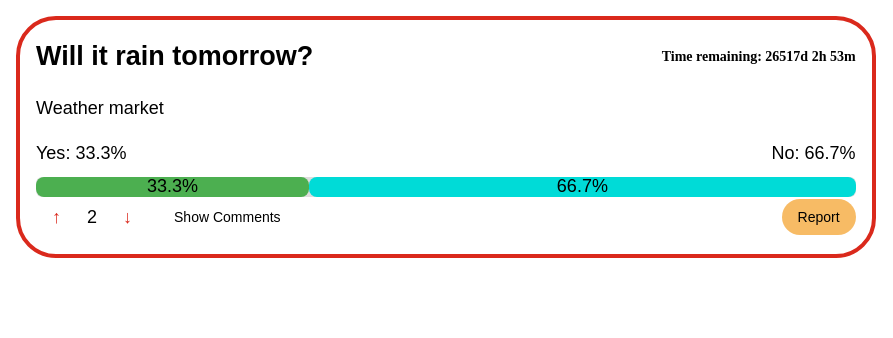
Test: shows vote error if voting fails
Click the button named "upvote": (56, 217) [36,196,77,238]
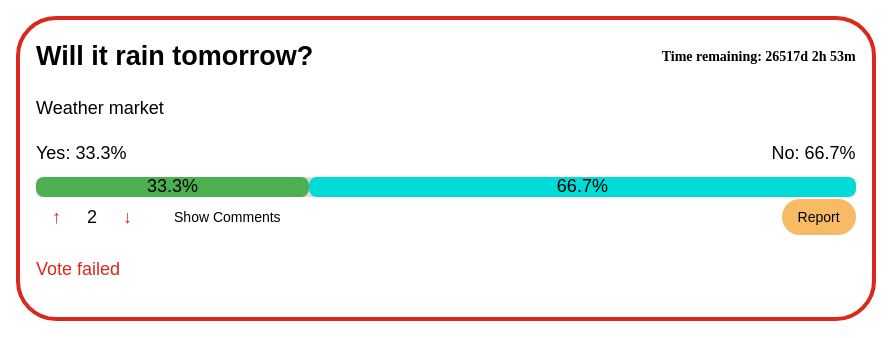
Expected: the text "Vote failed" is shown, [36,258,120,278]
